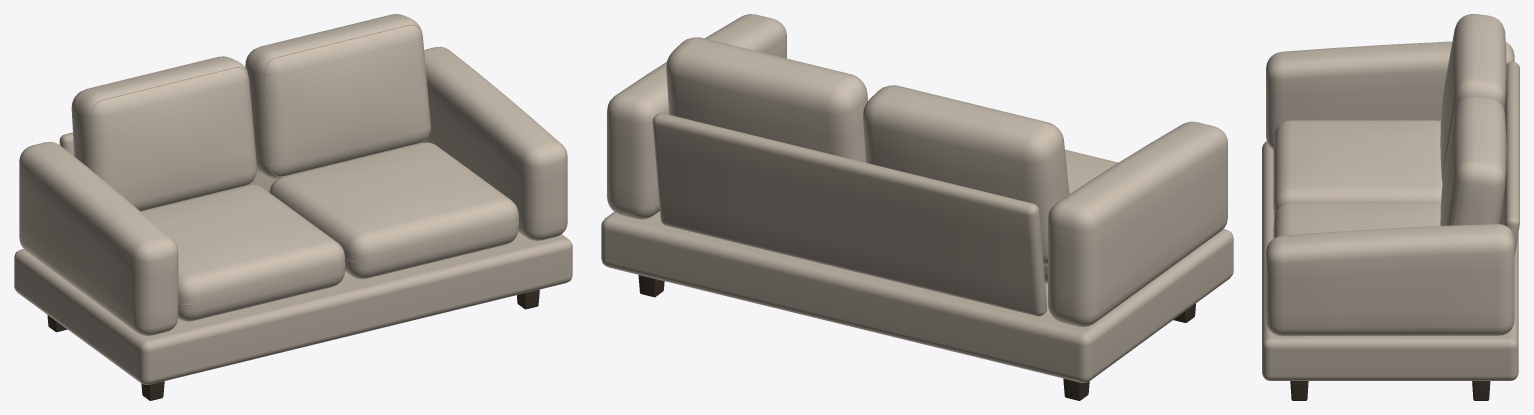
File: sofa-2-seater.glb
The picture shows the model from 3 angles, left to right: view 1: azimuth 30°, elevation 25°; view 2: azimuth 150°, elevation 25°; view 3: azimuth 270°, elevation 25°; orthographic projection. The views are drawn at different scales.
Parts seen in each view (by area): view 1: EQ_sofa-2-seater, EQ_sofa-2-seater_Continuous_Upholstered_Base, EQ_sofa-2-seater_Armrest_Left, EQ_sofa-2-seater_Armrest_Right, EQ_sofa-2-seater_Rear_Support; view 2: EQ_sofa-2-seater_Rear_Support, EQ_sofa-2-seater, EQ_sofa-2-seater_Continuous_Upholstered_Base, EQ_sofa-2-seater_Armrest_Left, EQ_sofa-2-seater_Armrest_Right; view 3: EQ_sofa-2-seater, EQ_sofa-2-seater_Armrest_Right, EQ_sofa-2-seater_Armrest_Left, EQ_sofa-2-seater_Continuous_Upholstered_Base, EQ_sofa-2-seater_Rear_Support.
Boxes of the visible parts, bbox=[...] form: EQ_sofa-2-seater: bbox=[47, 14, 539, 400]; EQ_sofa-2-seater_Continuous_Upholstered_Base: bbox=[14, 232, 572, 384]; EQ_sofa-2-seater_Armrest_Left: bbox=[19, 141, 178, 335]; EQ_sofa-2-seater_Armrest_Right: bbox=[422, 46, 567, 240]; EQ_sofa-2-seater_Rear_Support: bbox=[59, 132, 277, 192]; EQ_sofa-2-seater_Rear_Support: bbox=[652, 113, 1046, 316]; EQ_sofa-2-seater: bbox=[638, 37, 1195, 400]; EQ_sofa-2-seater_Continuous_Upholstered_Base: bbox=[601, 211, 1233, 382]; EQ_sofa-2-seater_Armrest_Left: bbox=[1048, 121, 1227, 327]; EQ_sofa-2-seater_Armrest_Right: bbox=[607, 14, 786, 219]; EQ_sofa-2-seater: bbox=[1273, 14, 1506, 400]; EQ_sofa-2-seater_Armrest_Right: bbox=[1266, 224, 1514, 336]; EQ_sofa-2-seater_Armrest_Left: bbox=[1266, 41, 1514, 149]; EQ_sofa-2-seater_Continuous_Upholstered_Base: bbox=[1262, 141, 1518, 380]; EQ_sofa-2-seater_Rear_Support: bbox=[1499, 61, 1519, 256].
Size of the model in its own units: 1.82 by 0.9156 by 0.9646.
